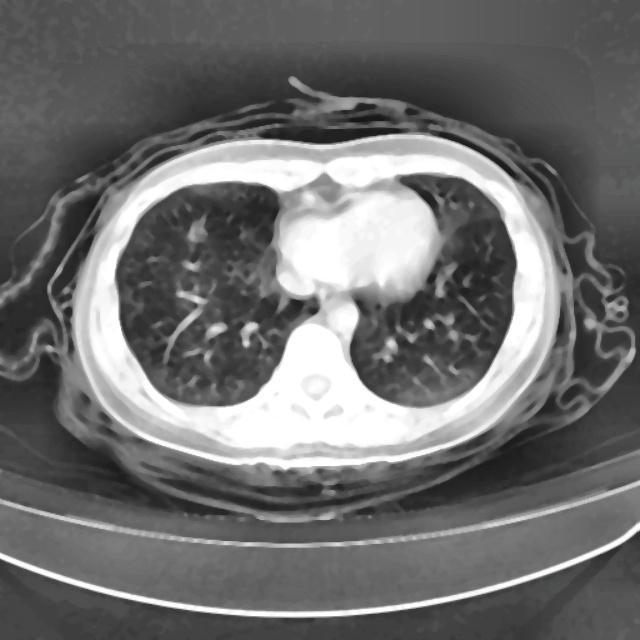covid: (1, 76, 635, 522)
